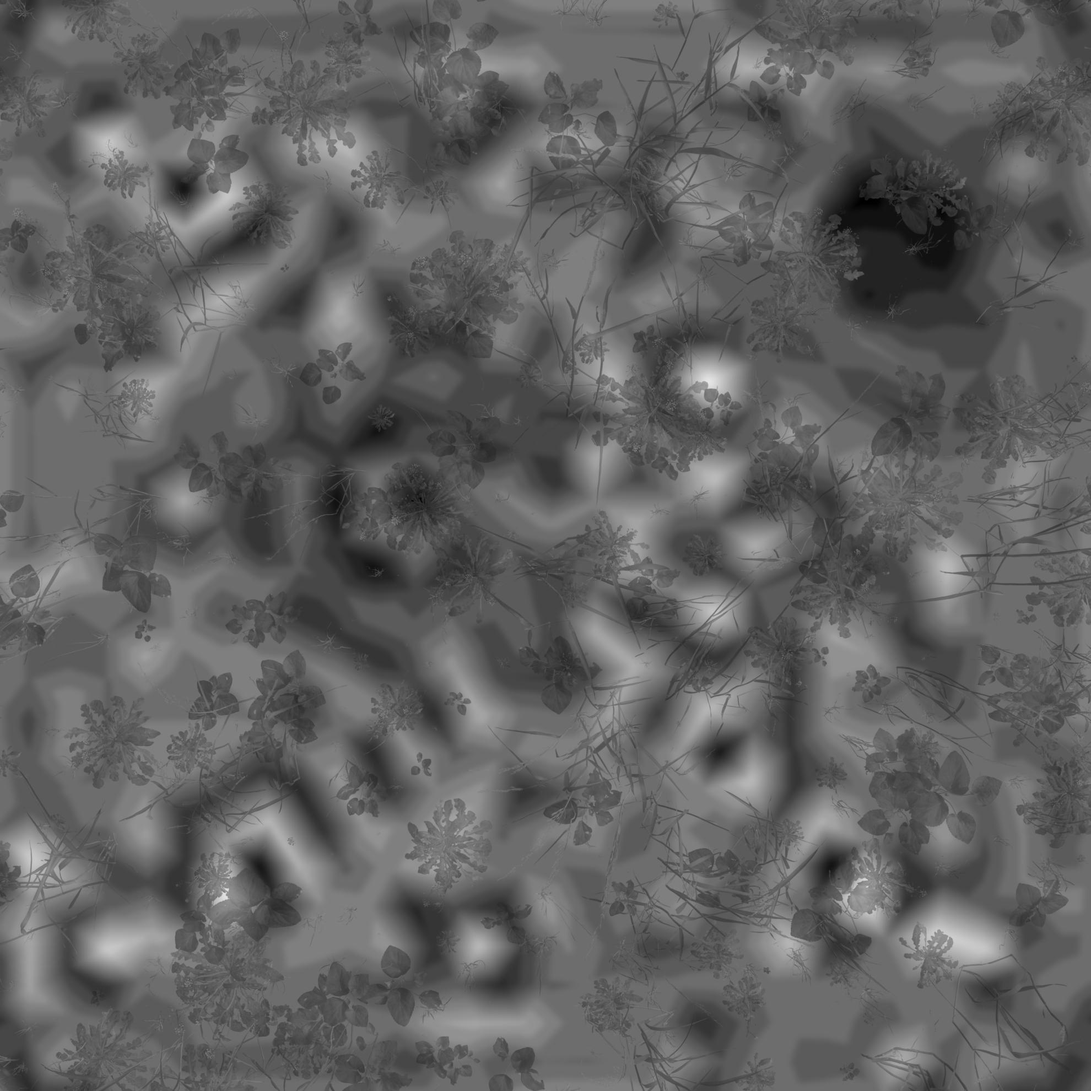landmine: (819, 161, 979, 303), (333, 428, 480, 574)
